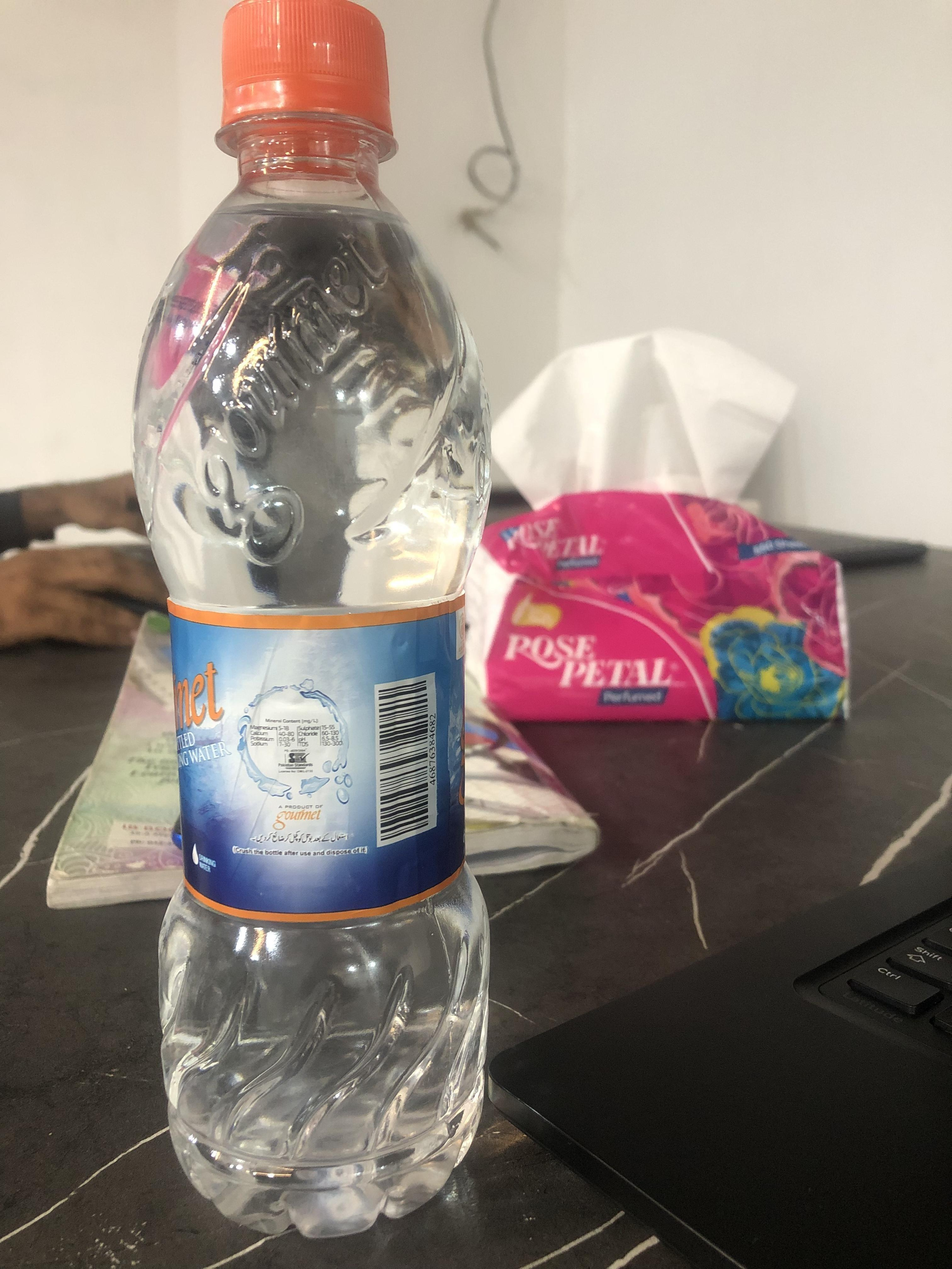bottle-plastic: (117, 0, 515, 1241)
